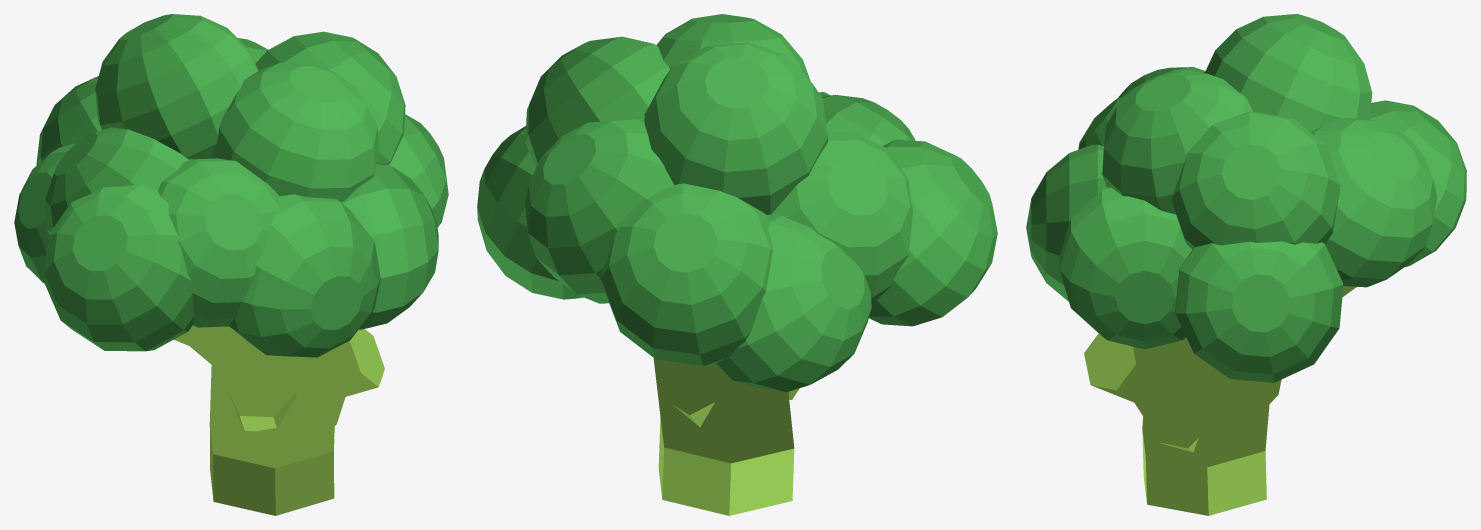
The model's file is Broccoli.glb.
3 renders of one model, left to right at view 1: azimuth 30°, elevation 25°; view 2: azimuth 150°, elevation 25°; view 3: azimuth 270°, elevation 25°, orthographic. The views are drawn at different scales.
Visible parts, largest first — view 1: Node; view 2: Node; view 3: Node.
Part boxes in pixels (left/top/right/bottom): Node: left=14, top=14, right=448, bottom=515; Node: left=477, top=14, right=997, bottom=515; Node: left=1026, top=14, right=1466, bottom=515.
Bounding box in the file's own units: 0.2779 × 0.2823 × 0.2544.
